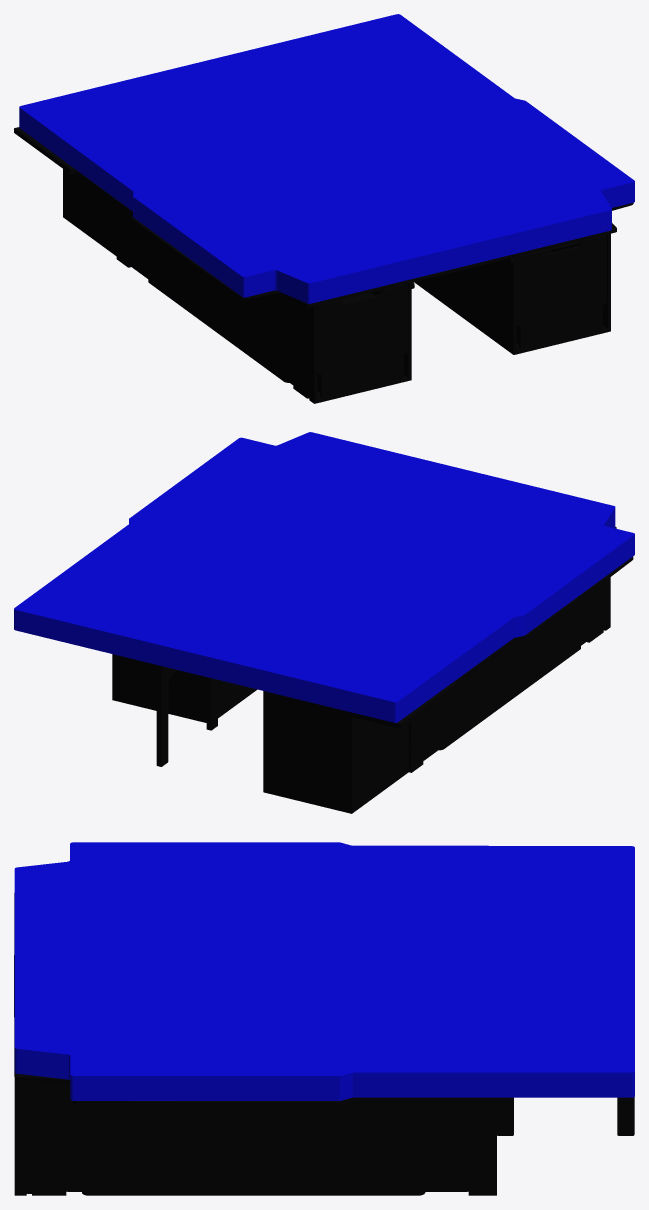
File: lit_nuit.glb
3 renders of one model, top to bottom at view 1: azimuth 30°, elevation 25°; view 2: azimuth 150°, elevation 25°; view 3: azimuth 270°, elevation 25°, orthographic. The views are drawn at different scales.
Bounding box in the file's own units: 1.62 × 0.4741 × 1.8.
